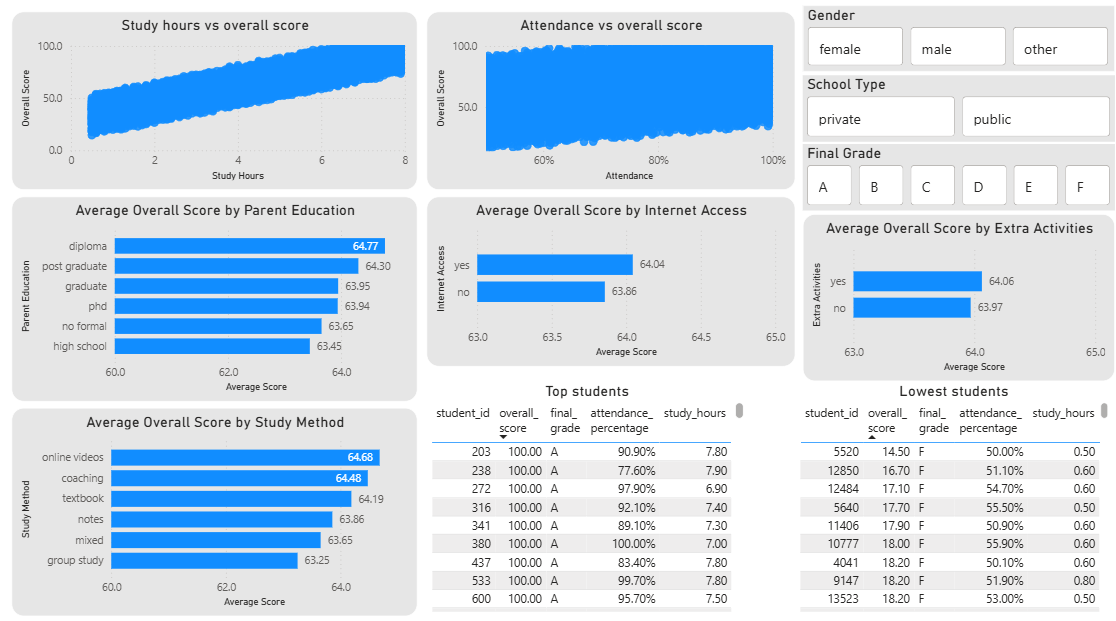

The page's visual inventory and layout, read from the dashboard file:
{"tool":"powerbi","page":{"name":"Performance Drivers","canvas":[1280,720],"ordinal":1},"visuals":[{"type":"scatterChart","title":"Study hours vs overall score","fields":{"Y":["Student_Performance.overall_score"],"X":["Student_Performance.study_hours"]},"box":[14.3,14.3,464.3,204.3],"z":0},{"type":"scatterChart","title":"Attendance vs overall score","fields":{"X":["Student_Performance.attendance_percentage"],"Y":["Student_Performance.overall_score"]},"box":[488.6,14.3,421.4,204.3],"z":1000},{"type":"barChart","title":"Average Overall Score by Parent Education","fields":{"Category":["Student_Performance.parent_education"],"Y":["Student_Performance.average_overall_score"]},"box":[14.3,225.7,464.3,234.3],"z":2000},{"type":"barChart","title":"Average Overall Score by Internet Access","fields":{"Category":["Student_Performance.internet_access"],"Y":["Student_Performance.average_overall_score"]},"box":[488.6,225.7,421.4,194.3],"z":3000},{"type":"barChart","title":"Average Overall Score by Extra Activities","fields":{"Category":["Student_Performance.extra_activities"],"Y":["Student_Performance.average_overall_score"]},"box":[918.6,245.7,357.1,191.4],"z":4000},{"type":"barChart","title":"Average Overall Score by Study Method","fields":{"Category":["Student_Performance.study_method"],"Y":["Student_Performance.average_overall_score"]},"box":[14.3,467.1,464.3,238.6],"z":5000},{"type":"tableEx","title":"Top students","fields":{"Values":["Student_Performance.student_id","Student_Performance.overall_score","Student_Performance.final_grade","Student_Performance.attendance_percentage","Student_Performance.study_hours"]},"box":[488.6,437.1,367.1,268.6],"z":6000},{"type":"tableEx","title":"Lowest students","fields":{"Values":["Student_Performance.student_id","Student_Performance.overall_score","Student_Performance.final_grade","Student_Performance.attendance_percentage","Student_Performance.study_hours"]},"box":[910,437.1,362.9,268.6],"z":7000},{"type":"advancedSlicerVisual","title":"Gender","fields":{"Values":["Student_Performance.gender"]},"box":[918.6,7.1,357.1,75.7],"z":8000},{"type":"advancedSlicerVisual","title":"School Type","fields":{"Values":["Student_Performance.school_type"]},"box":[918.6,87.1,357.1,75.7],"z":9000},{"type":"advancedSlicerVisual","title":"Final Grade","fields":{"Values":["Student_Performance.final_grade"]},"box":[918.6,165.7,357.1,75.7],"z":10000}]}

Visuals, with their boxes in screenshot pixels (x1, y1, x2, y2), scaled from the page's 1280x720 canvas onto the 1116x621 screenshot:
"Study hours vs overall score" scatterChart: pyautogui.locateOnScreen(12, 12, 417, 189)
"Attendance vs overall score" scatterChart: pyautogui.locateOnScreen(426, 12, 793, 189)
"Average Overall Score by Parent Education" barChart: pyautogui.locateOnScreen(12, 195, 417, 397)
"Average Overall Score by Internet Access" barChart: pyautogui.locateOnScreen(426, 195, 793, 362)
"Average Overall Score by Extra Activities" barChart: pyautogui.locateOnScreen(801, 212, 1112, 377)
"Average Overall Score by Study Method" barChart: pyautogui.locateOnScreen(12, 403, 417, 609)
"Top students" tableEx: pyautogui.locateOnScreen(426, 377, 746, 609)
"Lowest students" tableEx: pyautogui.locateOnScreen(793, 377, 1110, 609)
"Gender" advancedSlicerVisual: pyautogui.locateOnScreen(801, 6, 1112, 71)
"School Type" advancedSlicerVisual: pyautogui.locateOnScreen(801, 75, 1112, 140)
"Final Grade" advancedSlicerVisual: pyautogui.locateOnScreen(801, 143, 1112, 208)
